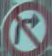Don't turn right: (2, 2, 51, 53)
